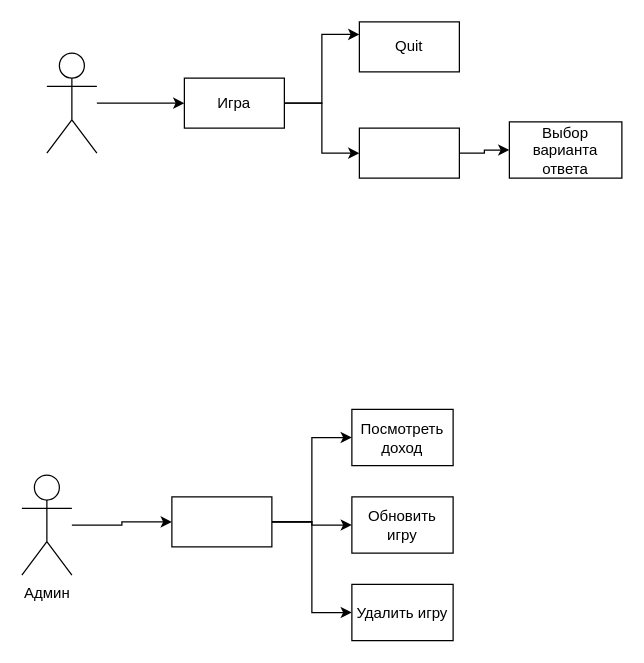
This 644x663 diagram has some shape labels left out. Here are the shapes that lost their labels. From the top down, the centre of each, then its label:
At (71,102): "Пользователь".
At (408,152): "Start".
At (221,521): "Сайт".
